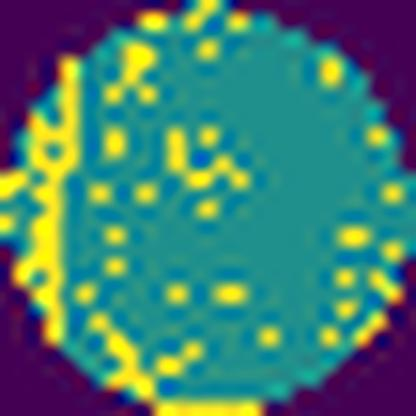Scratch: (8, 53, 88, 352)
